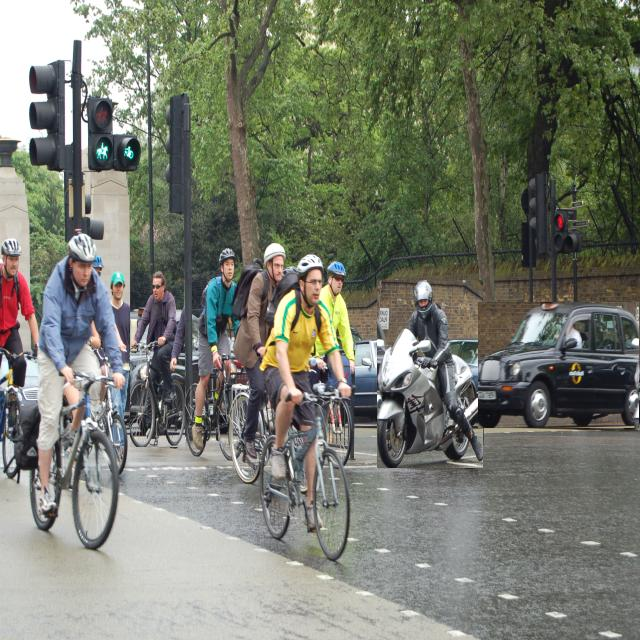bicycle: (30, 233, 125, 549), (260, 254, 351, 560), (186, 248, 235, 459), (130, 271, 185, 447)
car: (479, 302, 639, 428)
motorcycle: (378, 280, 483, 468)
